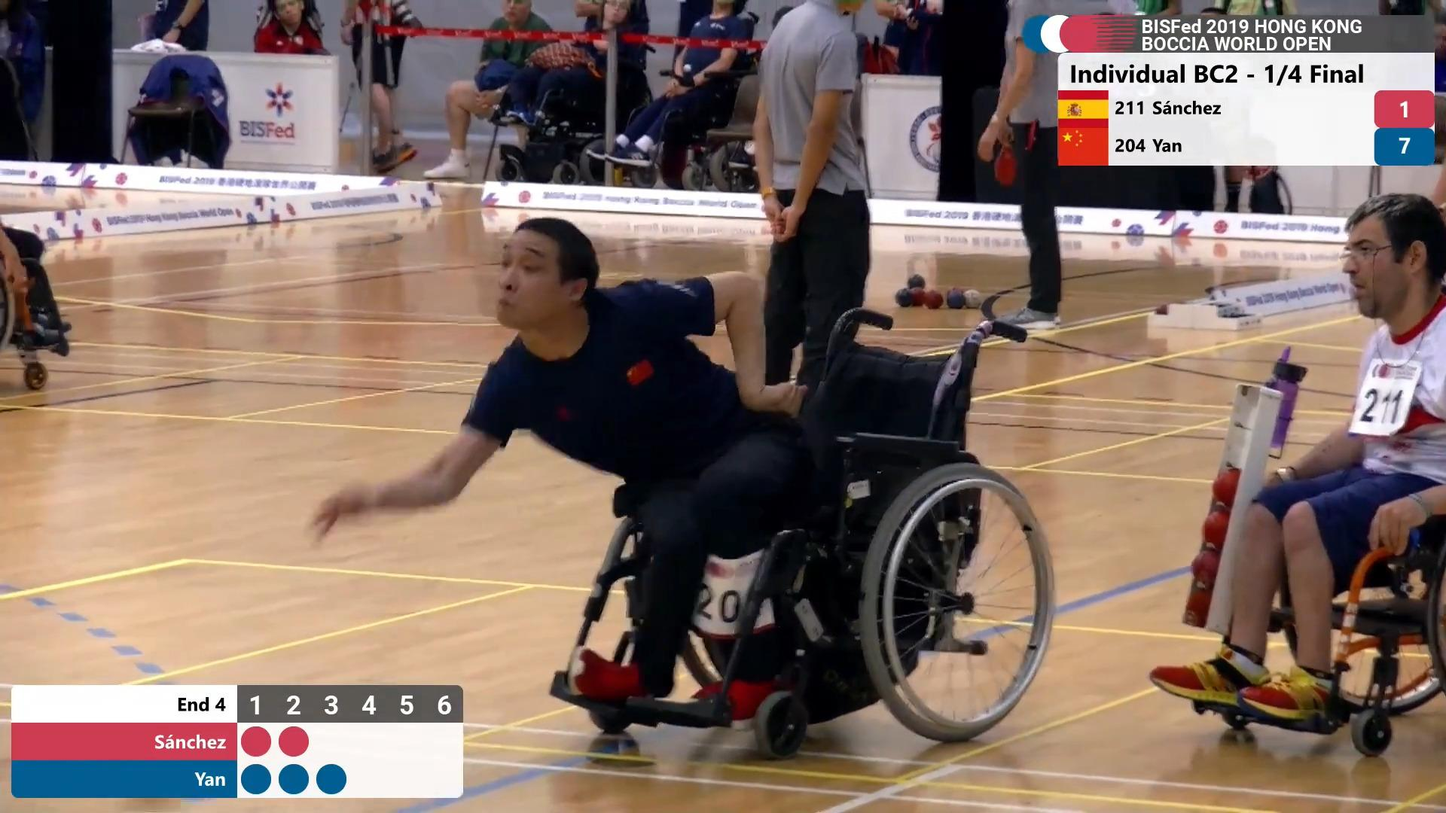blue_ball: (894, 287, 915, 309), (945, 290, 965, 310), (906, 273, 925, 292)
red_ball: (925, 289, 945, 311), (908, 286, 927, 309)
white_ball: (963, 287, 983, 311)
